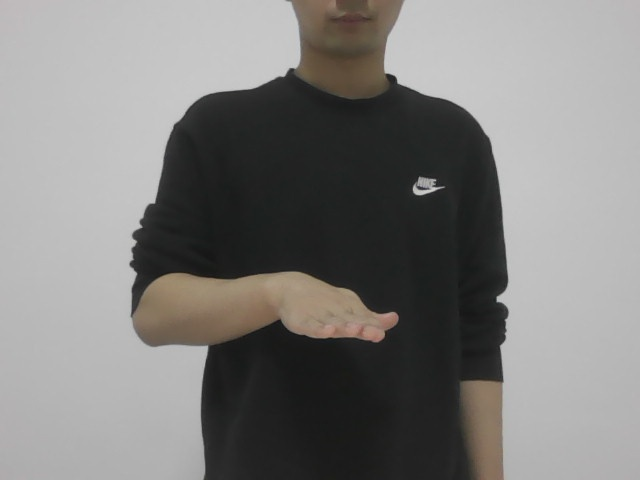slow: (273, 252, 418, 355)
